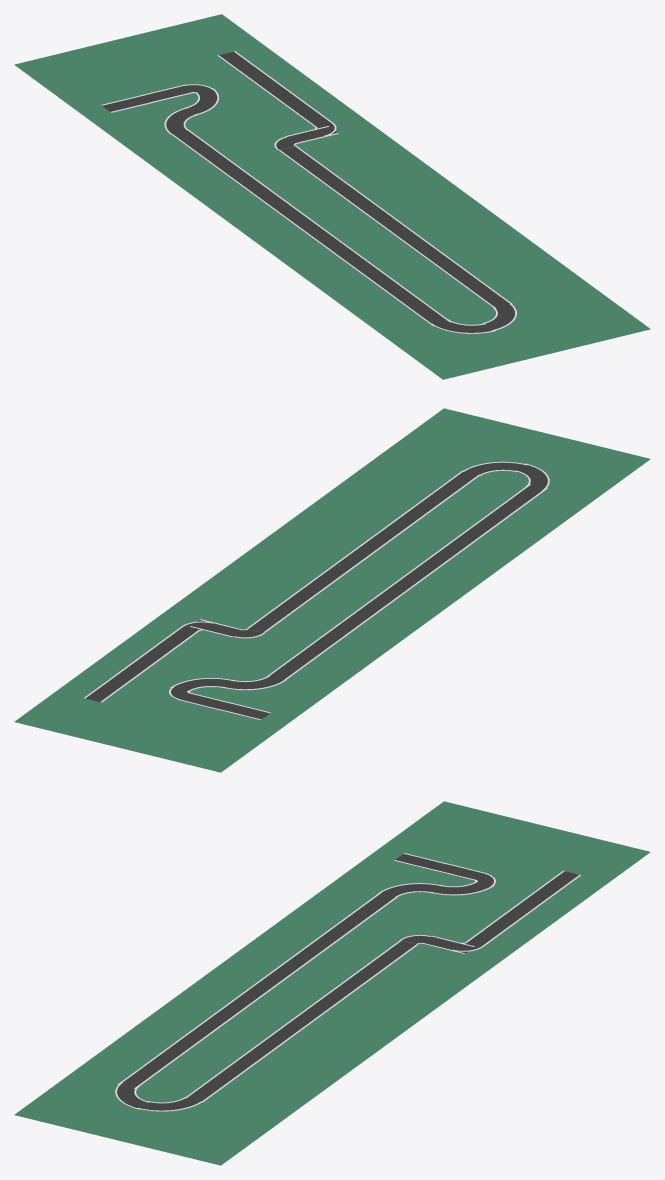
File: road8new.obj
The picture shows the model from 3 angles, top to bottom: view 1: azimuth 30°, elevation 25°; view 2: azimuth 150°, elevation 25°; view 3: azimuth 330°, elevation 25°; orthographic projection.
Visible parts, largest first — view 1: grass.003, roadCornerLarge.018, roadCornerLarge.021, roadCornerLarge.019, roadStraightLong.084, roadStraightLong.089, roadStraightLong.080, roadStraightLong.088, roadCornerLarge.020, roadStraightLong.087, roadStraightLong.090, roadStraightLong.083 (+6 smaller); view 2: grass.003, roadCornerLarge.018, roadCornerLarge.019, roadCornerLarge.021, roadStraightLong.084, roadStraightLong.085, roadStraightLong.088, roadStraightLong.065, roadStraightLong.090, roadStraightLong.080, roadStraightLong.081, roadStraightLong.089 (+4 smaller); view 3: grass.003, roadCornerLarge.018, roadCornerLarge.021, roadCornerLarge.019, roadCornerLarge.020, roadStraightLong.087, roadStraightLong.080, roadStraightLong.085, roadStraightLong.088, roadStraightLong.089, roadStraightLong.065, roadStraightLong.083 (+10 smaller).
Boxes of the visible parts, <box> form: grass.003: <box>14,14,650,379</box>; roadCornerLarge.018: <box>183,88,221,116</box>; roadCornerLarge.021: <box>482,304,518,330</box>; roadCornerLarge.019: <box>162,107,199,134</box>; roadStraightLong.084: <box>277,145,321,169</box>; roadStraightLong.089: <box>265,87,310,110</box>; roadStraightLong.080: <box>374,217,419,240</box>; roadStraightLong.088: <box>290,105,335,128</box>; roadCornerLarge.020: <box>432,319,496,334</box>; roadStraightLong.087: <box>284,126,339,144</box>; roadStraightLong.090: <box>241,69,286,92</box>; roadStraightLong.083: <box>302,163,346,186</box>; grass.003: <box>14,408,650,772</box>; roadCornerLarge.018: <box>169,677,234,691</box>; roadCornerLarge.019: <box>222,675,287,691</box>; roadCornerLarge.021: <box>462,461,526,476</box>; roadStraightLong.084: <box>245,610,290,633</box>; roadStraightLong.085: <box>436,470,481,493</box>; roadStraightLong.088: <box>156,625,201,648</box>; roadStraightLong.065: <box>177,692,231,711</box>; roadStraightLong.090: <box>108,662,152,684</box>; roadStraightLong.080: <box>342,540,386,562</box>; roadStraightLong.081: <box>318,558,362,580</box>; roadStraightLong.089: <box>131,644,177,666</box>; grass.003: <box>14,801,650,1165</box>; roadCornerLarge.018: <box>429,881,495,896</box>; roadCornerLarge.021: <box>138,1097,202,1112</box>; roadCornerLarge.019: <box>377,882,442,898</box>; roadCornerLarge.020: <box>113,1082,149,1110</box>; roadStraightLong.087: <box>420,935,474,954</box>; roadStraightLong.080: <box>277,1011,322,1034</box>; roadStraightLong.085: <box>183,1080,228,1103</box>; roadStraightLong.088: <box>463,925,508,948</box>; roadStraightLong.089: <box>487,907,533,930</box>; roadStraightLong.065: <box>433,862,487,881</box>; roadStraightLong.083: <box>350,958,395,981</box>.
Bounding box in the file's own units: 9.64 × 0.02 × 34.42.
